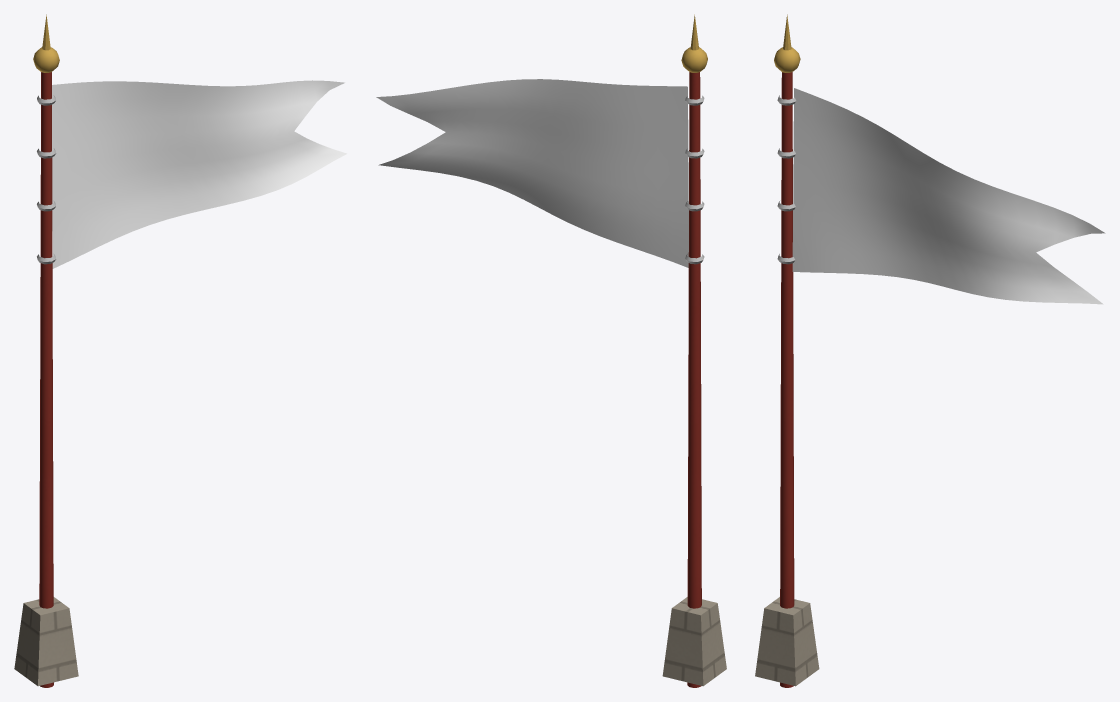
The model's file is Flag.glb.
The picture shows the model from 3 angles, left to right: view 1: azimuth 30°, elevation 25°; view 2: azimuth 150°, elevation 25°; view 3: azimuth 330°, elevation 25°; orthographic projection.
Parts seen in each view (by area): view 1: P_Flag; view 2: P_Flag; view 3: P_Flag.
Boxes of the visible parts, x1,y1,x2,y2 form: P_Flag: [14, 14, 346, 687]; P_Flag: [376, 14, 726, 687]; P_Flag: [755, 14, 1105, 687].
Bounding box in the file's own units: 5.65 × 11 × 0.7.
Materials: 2 (1 with a texture image).
